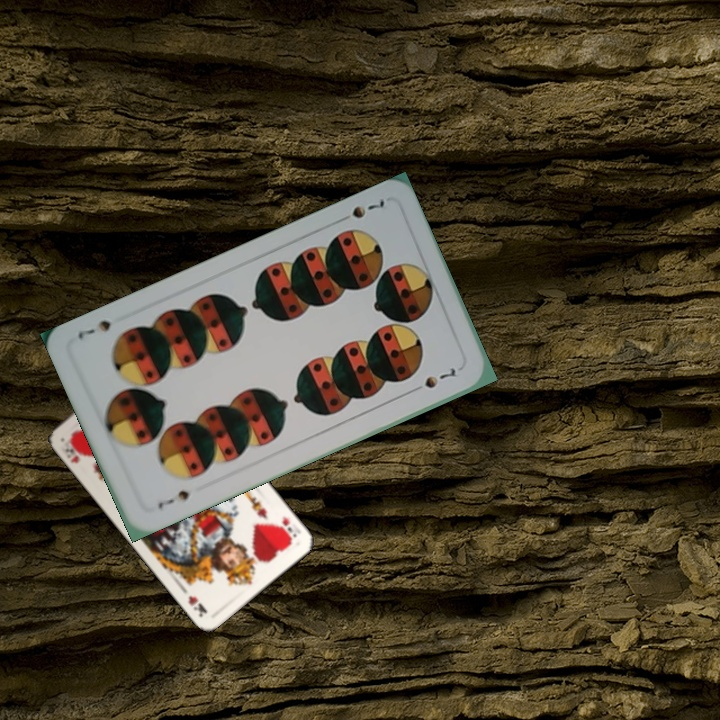HK: (273, 512, 299, 545), (61, 435, 88, 466)
S7: (334, 194, 387, 225), (154, 486, 192, 511)
